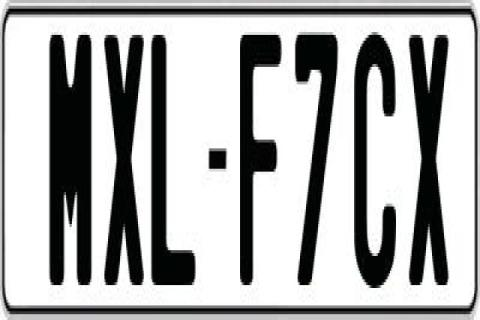0: (296, 35, 342, 288)
C: (352, 32, 398, 291)
F: (238, 29, 280, 291)
L: (150, 26, 196, 282)
M: (46, 26, 96, 291)
X: (104, 29, 146, 282), (407, 32, 449, 285)
